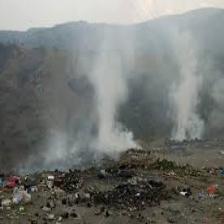smoke: (160, 20, 208, 139), (93, 35, 131, 151)
